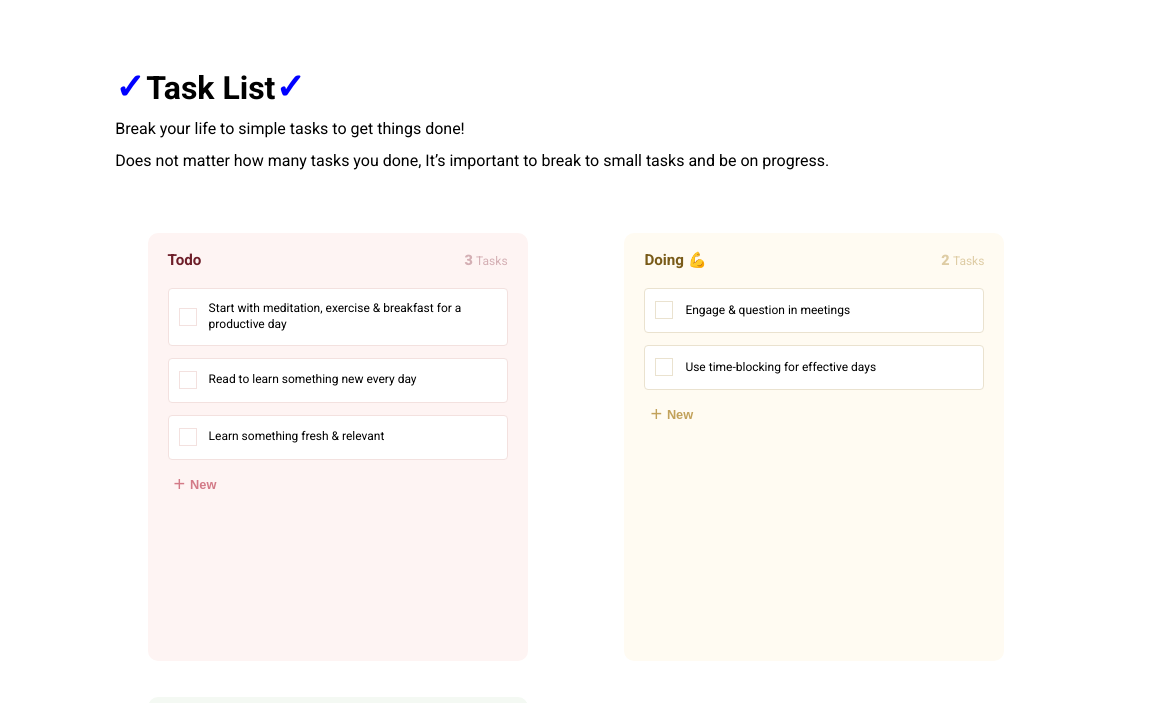
it: user can edit task › Should Edit Task by one click on task text
Click the button with test id "todo-task-item-1" at coordinates (338, 317), box [168,288,508,345]
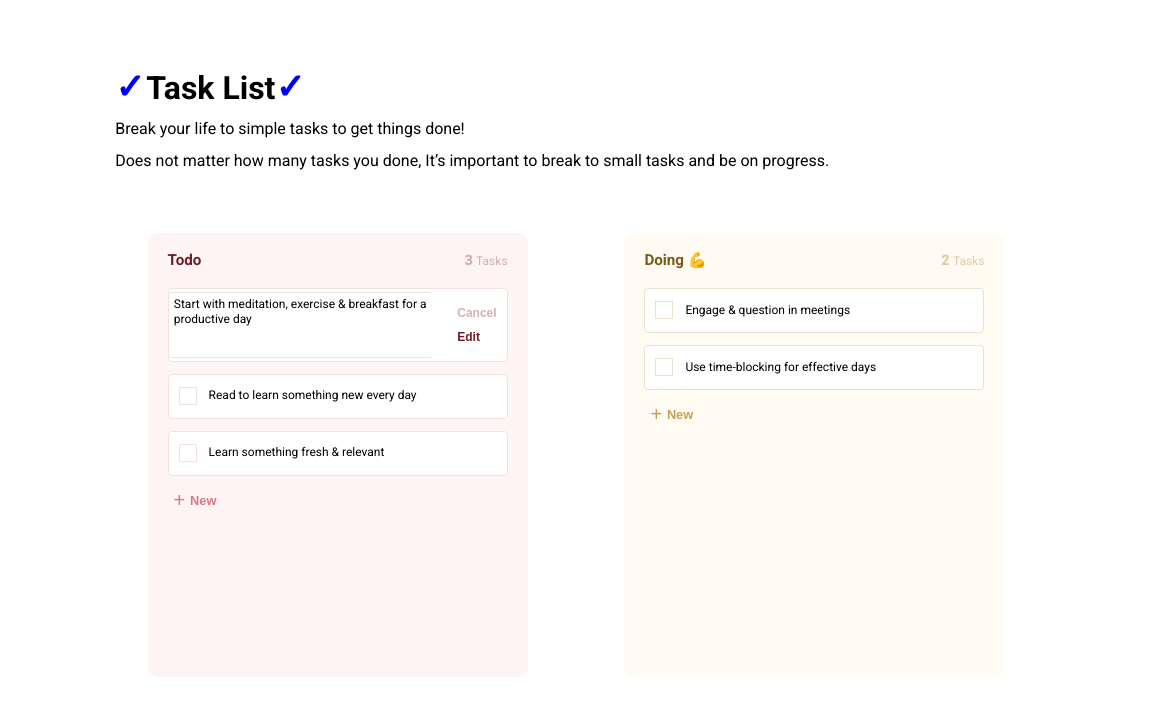
Replace the text in the text box named "edit task" with "Edit Task" at coordinates (301, 325), box [169,292,432,357]
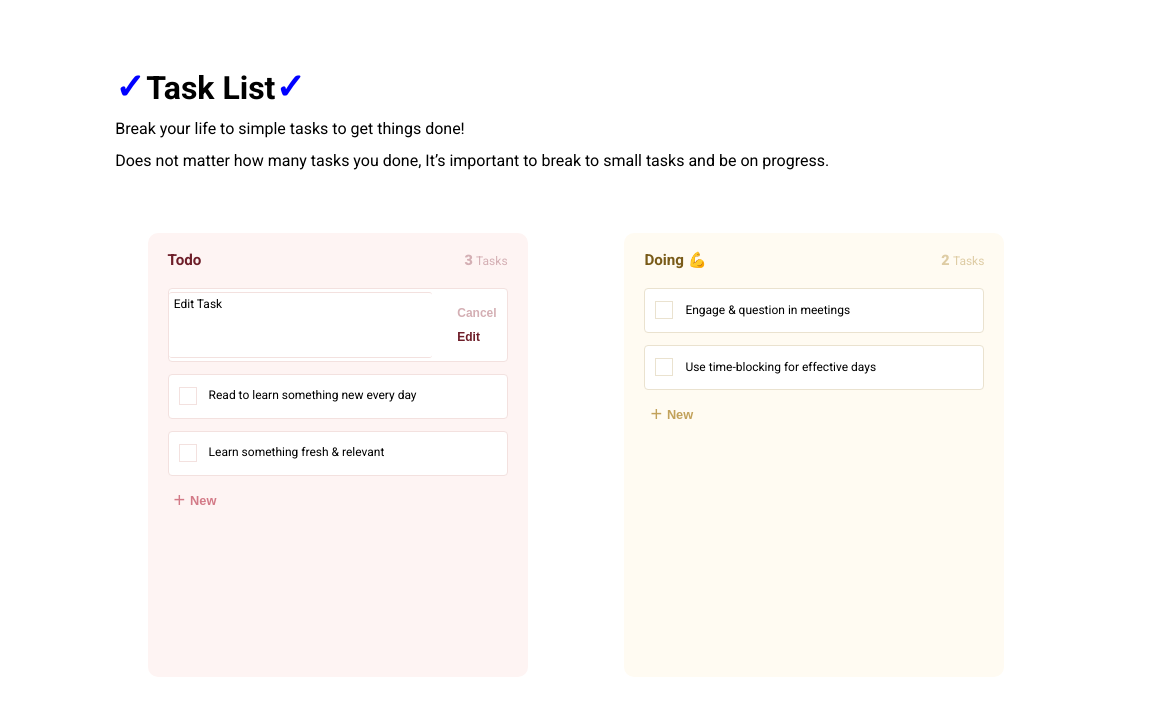
Click the button "Edit" at coordinates (469, 337), box [457,325,480,349]
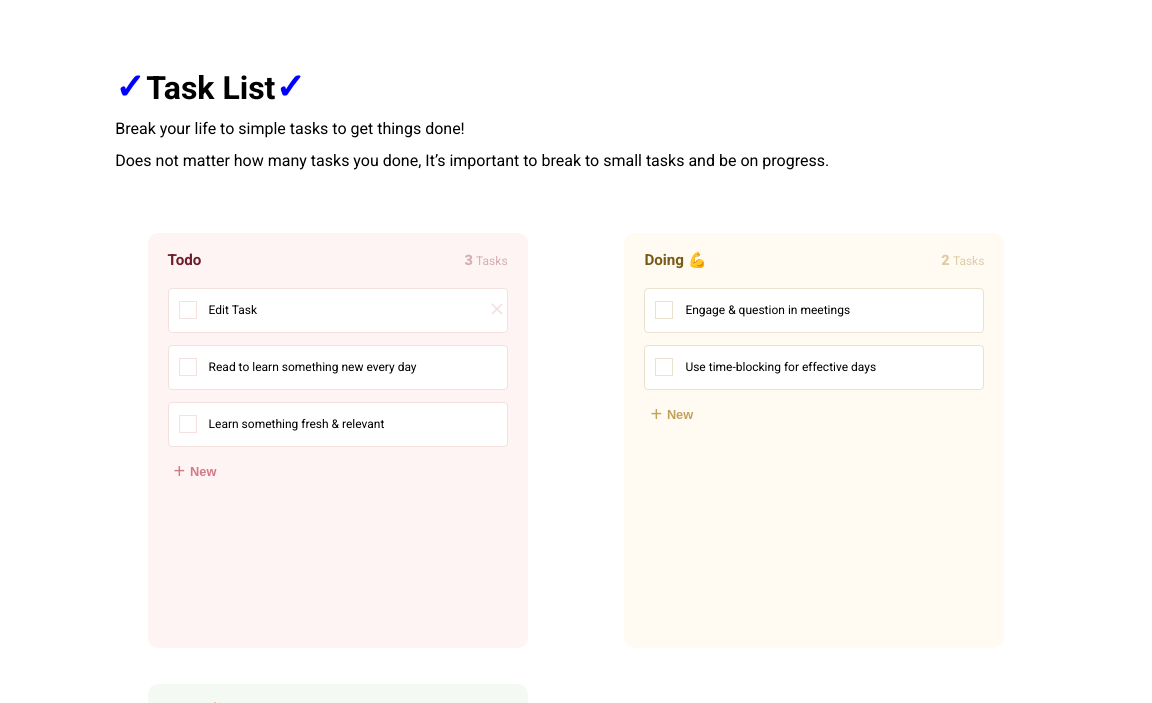
Expected: the text "3" is shown, [465,254,473,268]
Expected: the text "Edit Task" is shown, [209,303,257,319]
